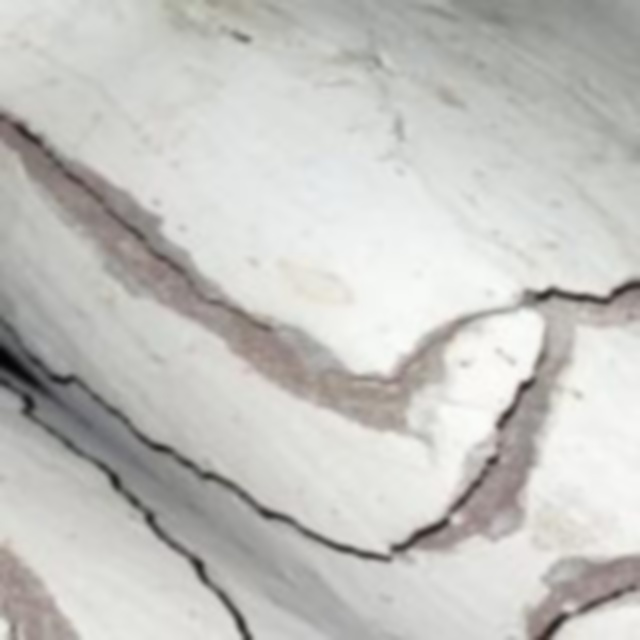SurfaceCrack: (0, 80, 360, 422), (0, 340, 386, 640), (386, 258, 640, 640)
